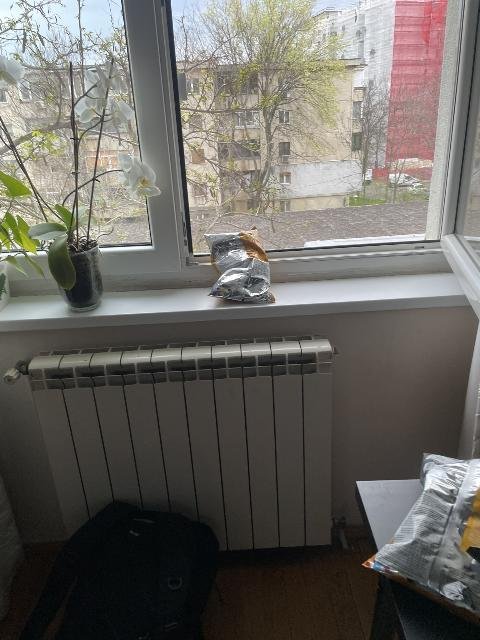Chio Hula Hoops Cheese 70g: (203, 226, 276, 303)
